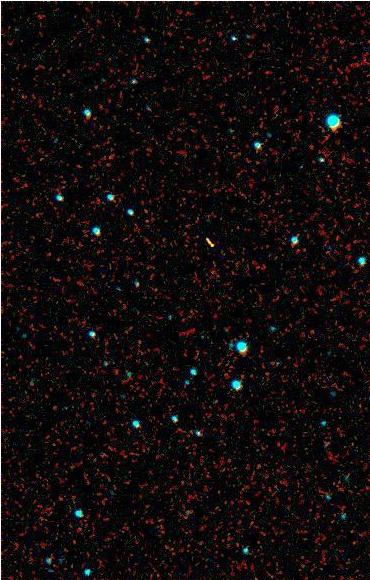star: (195, 225, 225, 255)
